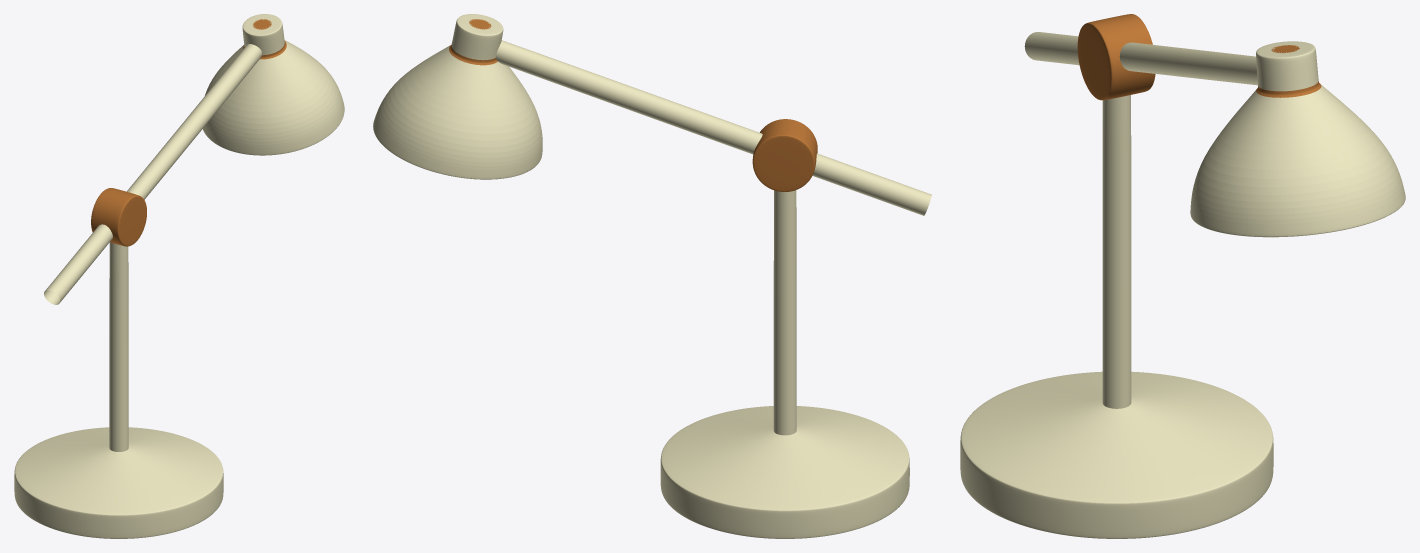
The model's file is Lamp_New.fbx.
3 renders of one model, left to right at view 1: azimuth 30°, elevation 25°; view 2: azimuth 150°, elevation 25°; view 3: azimuth 270°, elevation 25°, orthographic. The views are drawn at different scales.
Visible parts, largest first — view 1: Cylinder.003; view 2: Cylinder.003; view 3: Cylinder.003.
Part boxes in pixels (<box>): Cylinder.003: <box>14,14,344,538</box>; Cylinder.003: <box>373,14,931,538</box>; Cylinder.003: <box>960,14,1405,538</box>.
Size of the model in its own units: 222 by 217 by 153.
